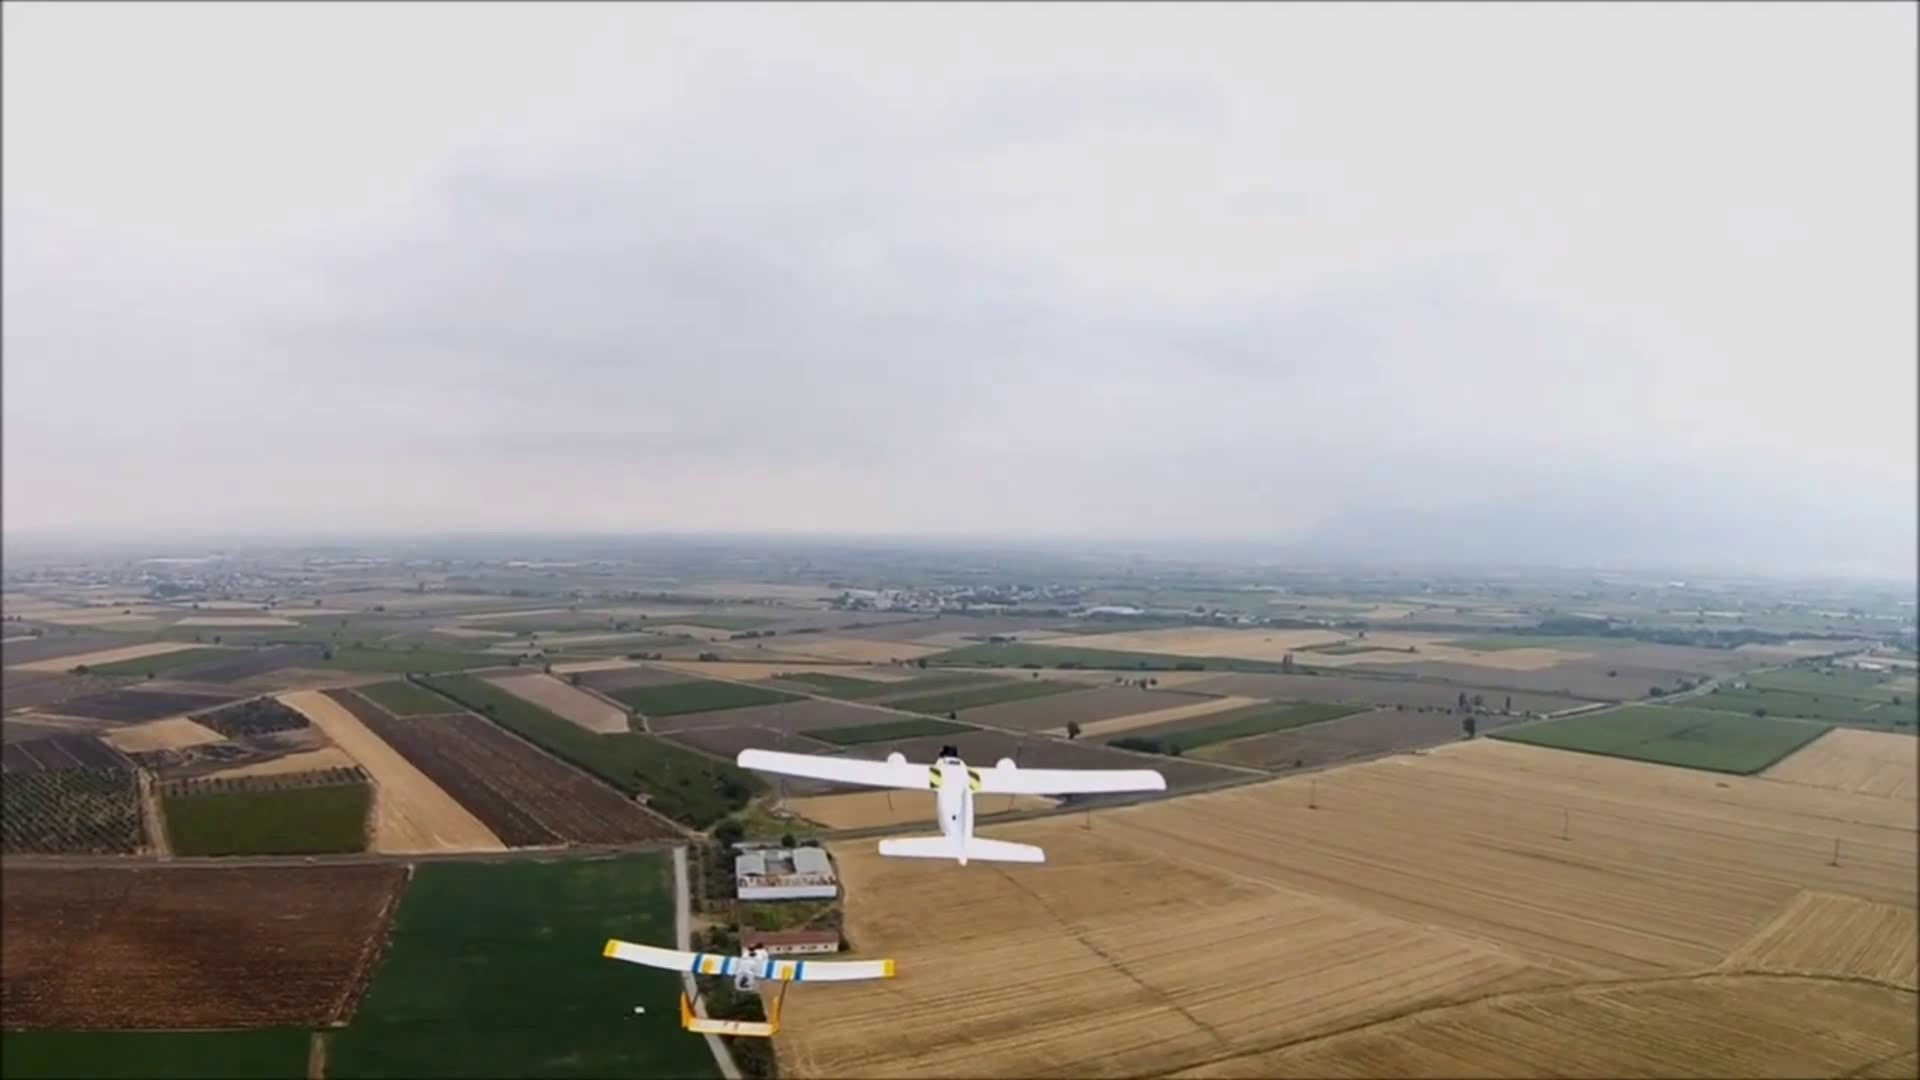airplane: (735, 731, 1170, 816)
